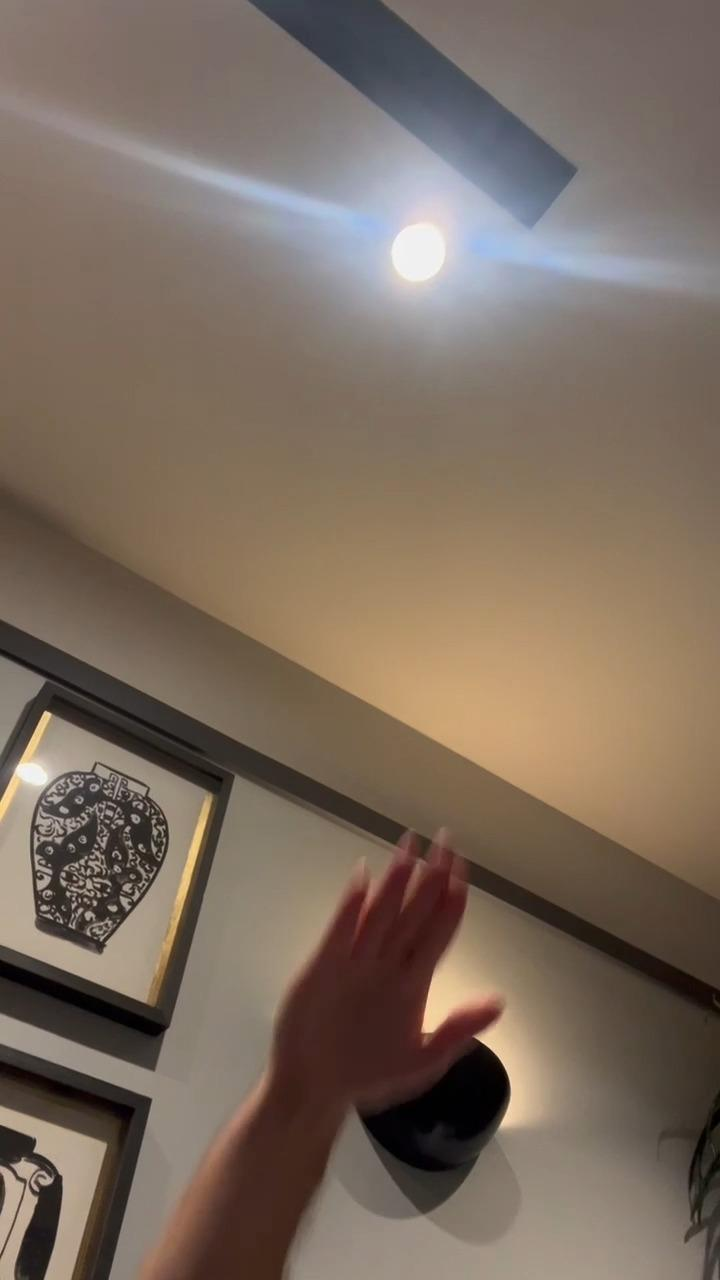Paper: (264, 832, 505, 1119)
